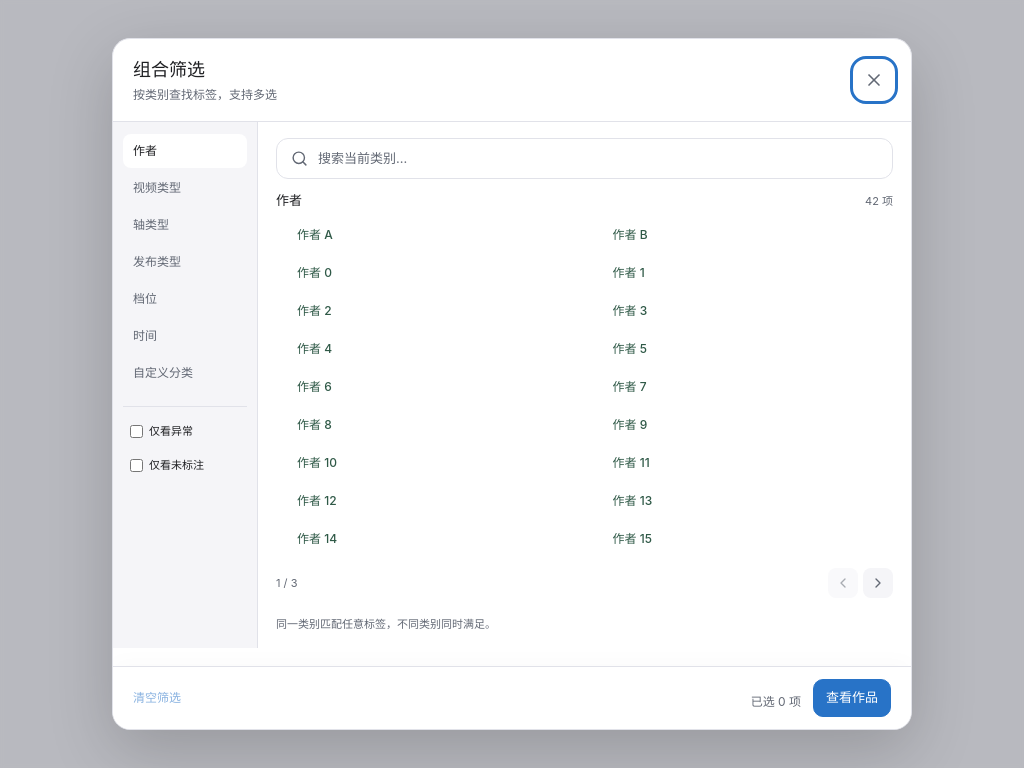
Test: multi category inventory filter › permits multiple tags per category and retains them when switching categories
Click the button "作者 A": point(315, 234) x1=276 y1=218 x2=578 y2=252
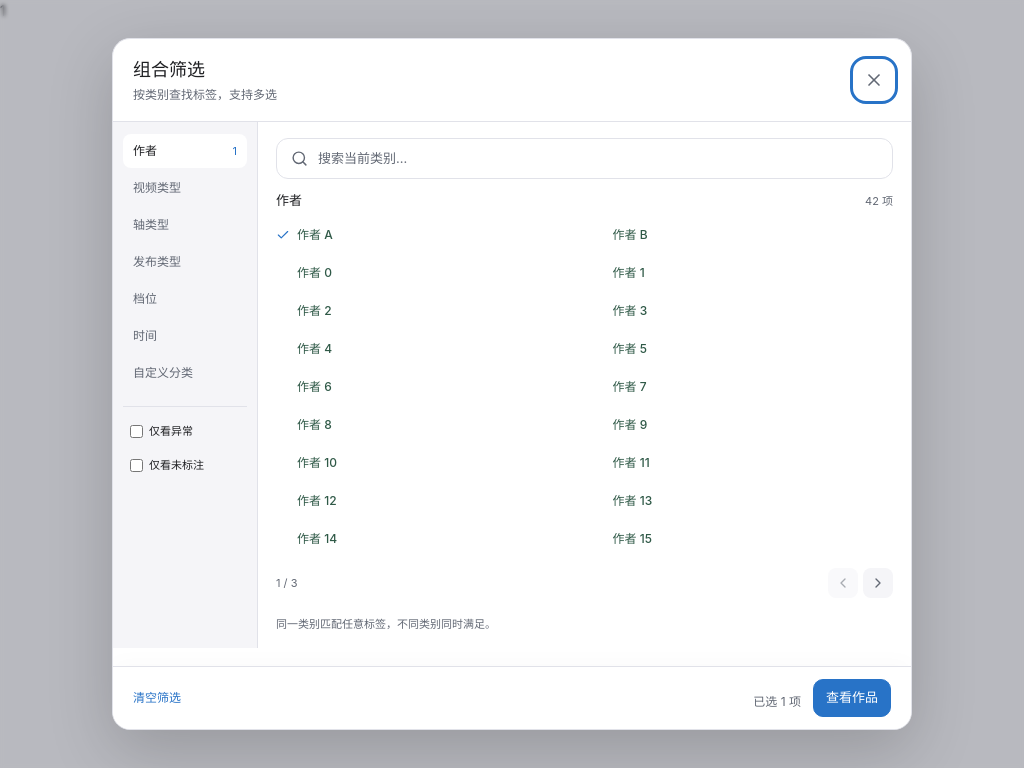
Click the button "作者 B": point(630, 234) x1=592 y1=218 x2=893 y2=252
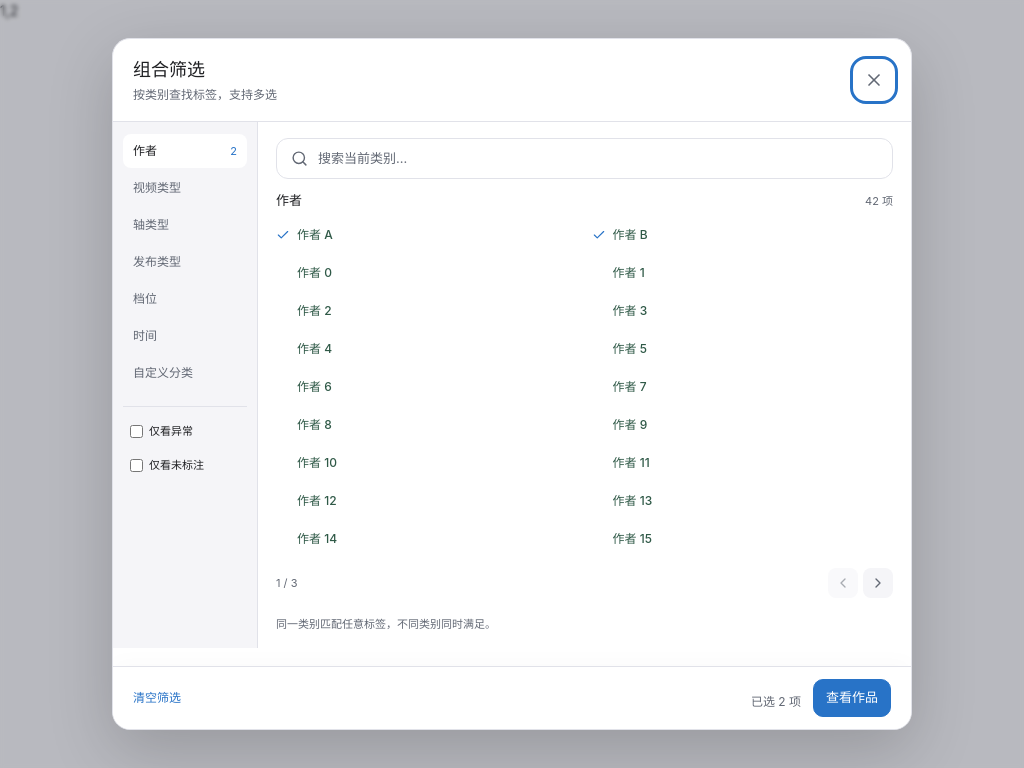
Click the button "视频类型": point(185, 188) x1=123 y1=171 x2=247 y2=205
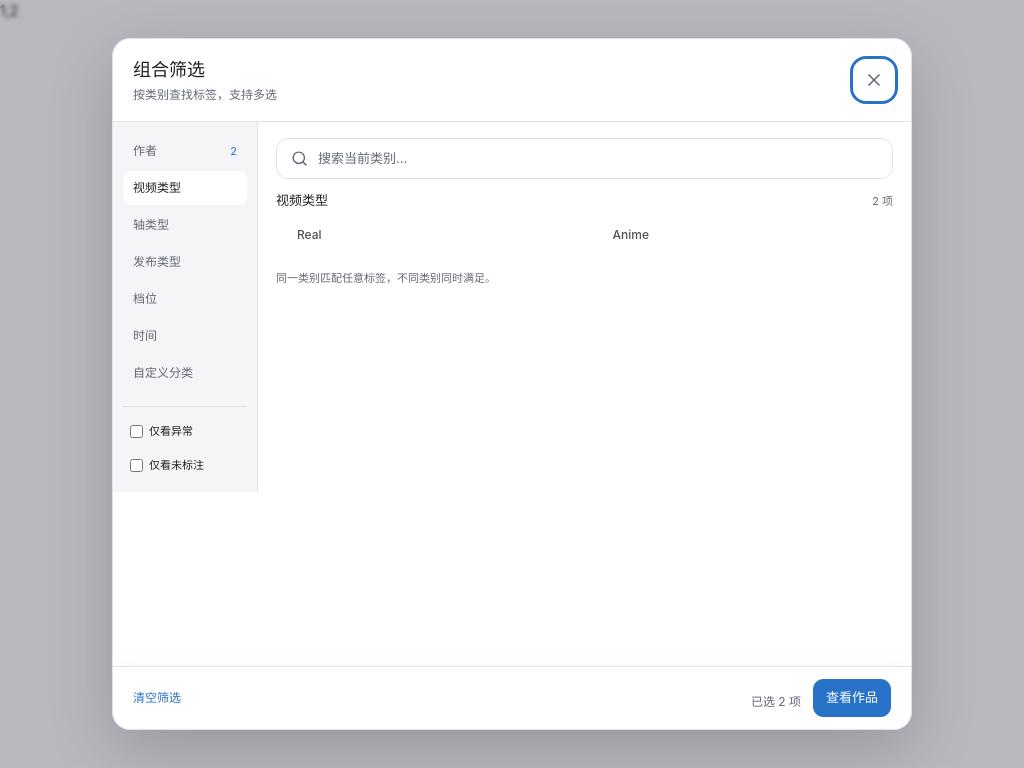
Click the button "Real": point(309, 234) x1=276 y1=218 x2=578 y2=252
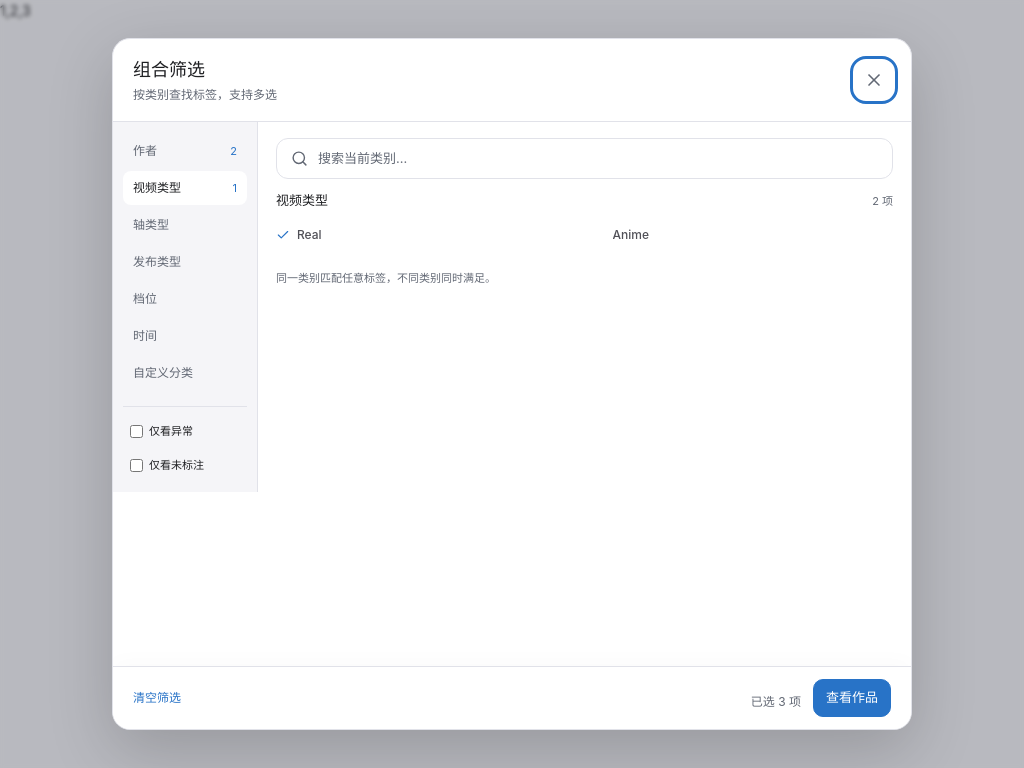
Result: the text named "筛选结果" reads "1,2,3" at x1=0 y1=2 x2=31 y2=19
Click the button named "作者2": point(185, 151) x1=123 y1=134 x2=247 y2=168
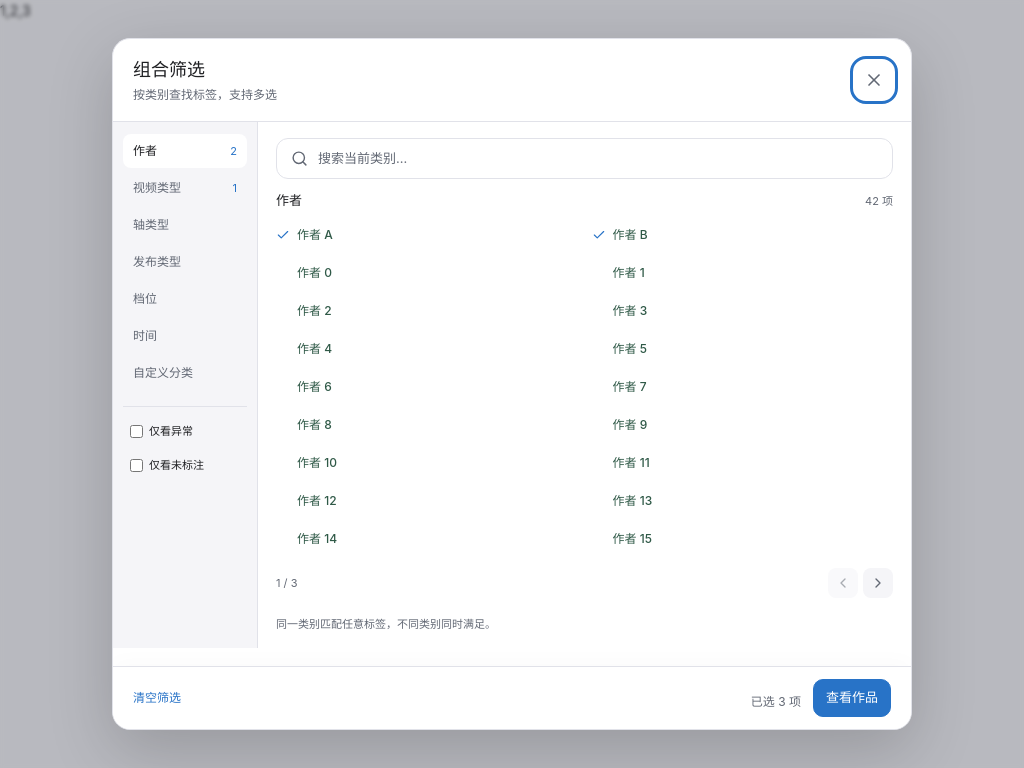
Click the button "作者 A": point(315, 234) x1=276 y1=218 x2=578 y2=252
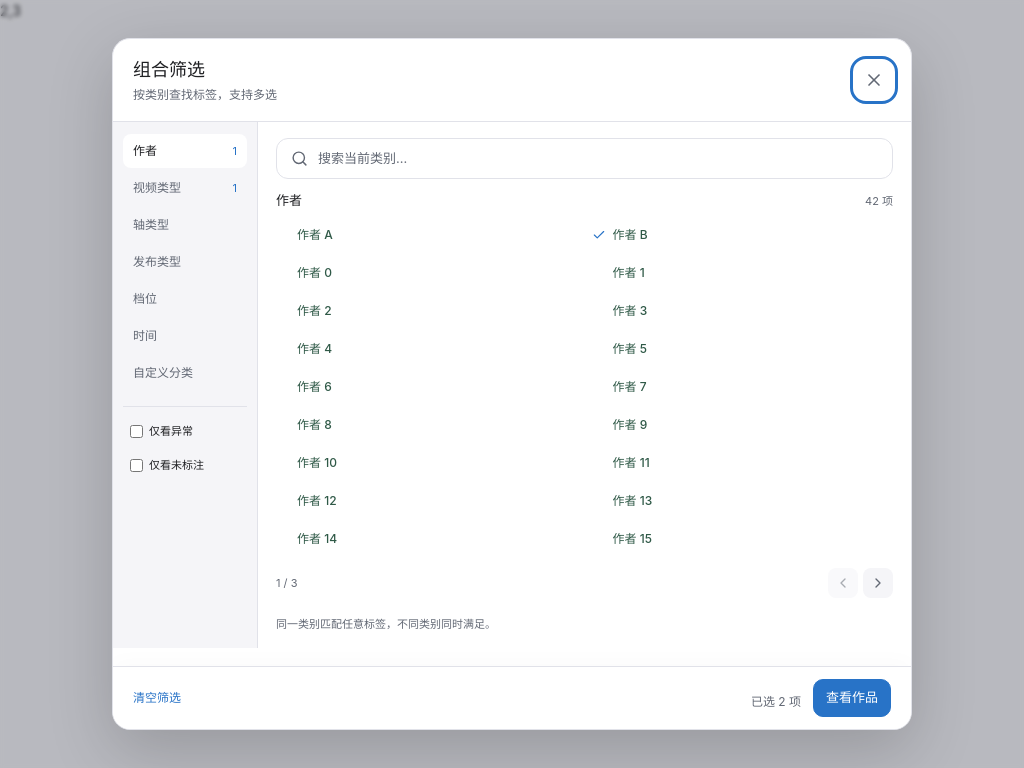
Result: the text named "筛选结果" reads "2,3" at x1=0 y1=2 x2=21 y2=19
